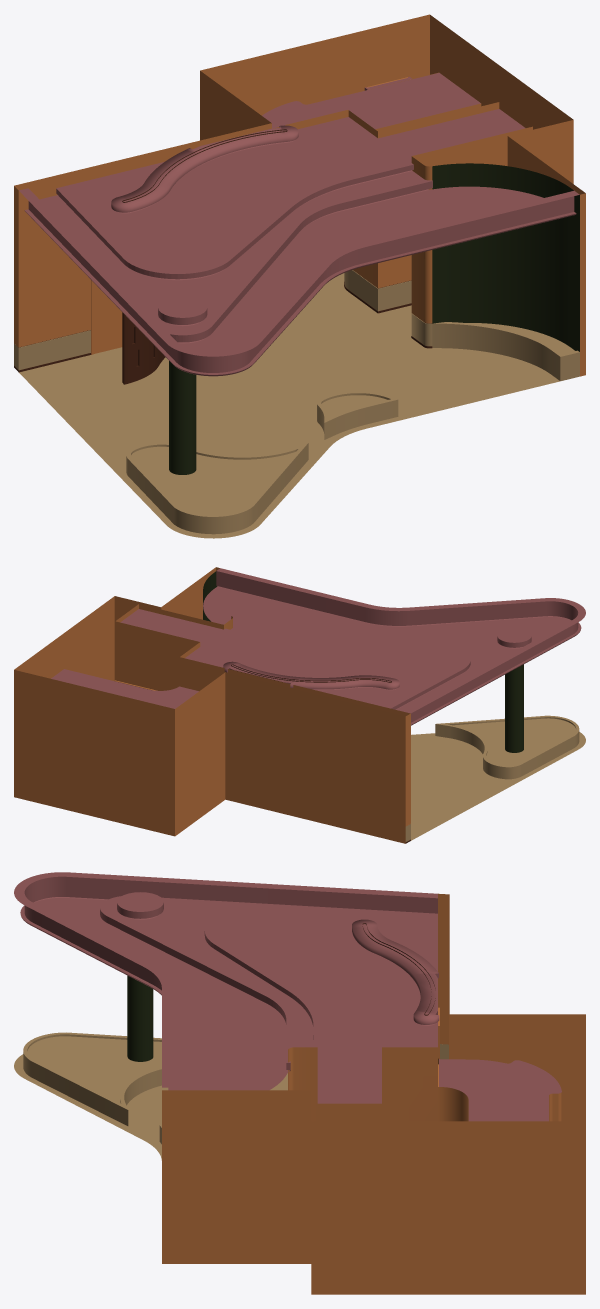
Rendered from ALL_North Lobby_01.fbx.
3 views of the same model, one above another, from view 1: azimuth 30°, elevation 25°; view 2: azimuth 150°, elevation 25°; view 3: azimuth 270°, elevation 25° (orthographic). The views are drawn at different scales.
Parts seen in each view (by area): view 1: SM_NorthLobbySTR_01, SM_NorthLobbySTR_02, SM_NorthLobbySTR_04, SM_NorthLobbySTR_05, SM_NorthLobbySTR_03; view 2: SM_NorthLobbySTR_04, SM_NorthLobbySTR_01, SM_NorthLobbySTR_02, SM_NorthLobbySTR_05, SM_NorthLobbySTR_03; view 3: SM_NorthLobbySTR_04, SM_NorthLobbySTR_01, SM_NorthLobbySTR_02, SM_NorthLobbySTR_05.
Boxes of the visible parts, box(x1,y1,x2,y2) form: SM_NorthLobbySTR_01: box(19, 72, 579, 376); SM_NorthLobbySTR_02: box(14, 270, 579, 538); SM_NorthLobbySTR_04: box(14, 14, 585, 376); SM_NorthLobbySTR_05: box(169, 163, 579, 474); SM_NorthLobbySTR_03: box(14, 129, 432, 384); SM_NorthLobbySTR_04: box(14, 567, 410, 843); SM_NorthLobbySTR_01: box(51, 568, 585, 725); SM_NorthLobbySTR_02: box(405, 715, 585, 841); SM_NorthLobbySTR_05: box(203, 571, 523, 752); SM_NorthLobbySTR_03: box(231, 664, 410, 843); SM_NorthLobbySTR_04: box(162, 893, 585, 1294); SM_NorthLobbySTR_01: box(14, 872, 561, 1121); SM_NorthLobbySTR_02: box(14, 1032, 448, 1160); SM_NorthLobbySTR_05: box(127, 975, 153, 1061).
Bounding box in the file's own units: 1398 × 459 × 1357.
